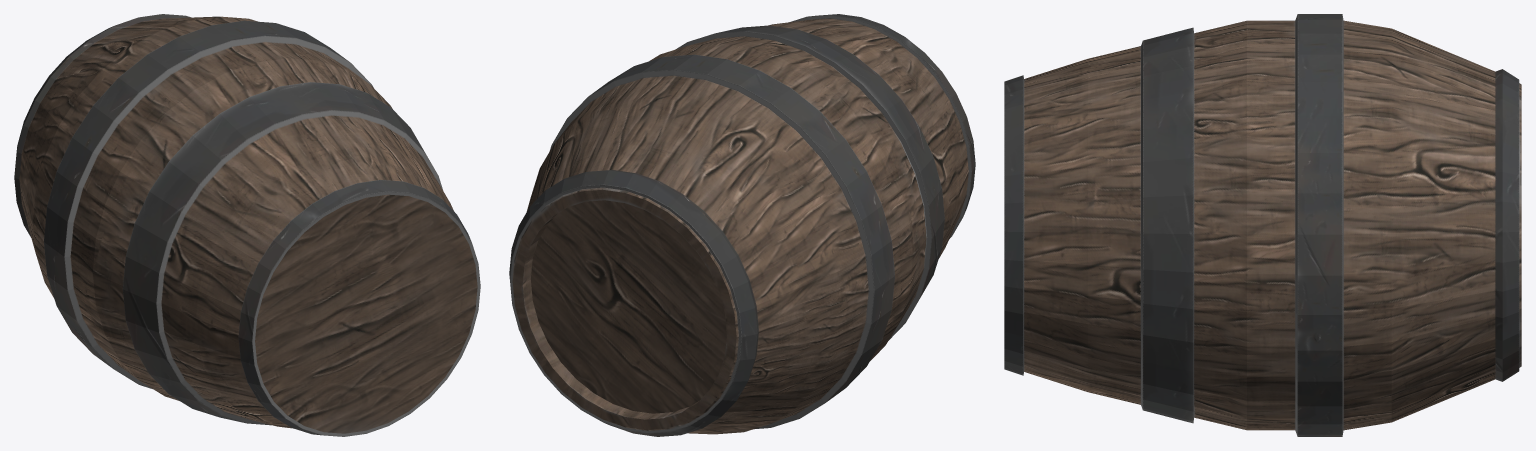
File: Fass.fbx
3 renders of one model, left to right at view 1: azimuth 30°, elevation 25°; view 2: azimuth 150°, elevation 25°; view 3: azimuth 270°, elevation 25°, orthographic. The views are drawn at different scales.
Parts seen in each view (by area): view 1: Fass; view 2: Fass; view 3: Fass.
Boxes of the visible parts, bbox=[...] form: Fass: bbox=[14, 14, 480, 436]; Fass: bbox=[509, 14, 975, 436]; Fass: bbox=[1004, 14, 1521, 436].
Bounding box in the file's own units: 312 × 312 × 381.
Materials: 1 (1 with a texture image).
